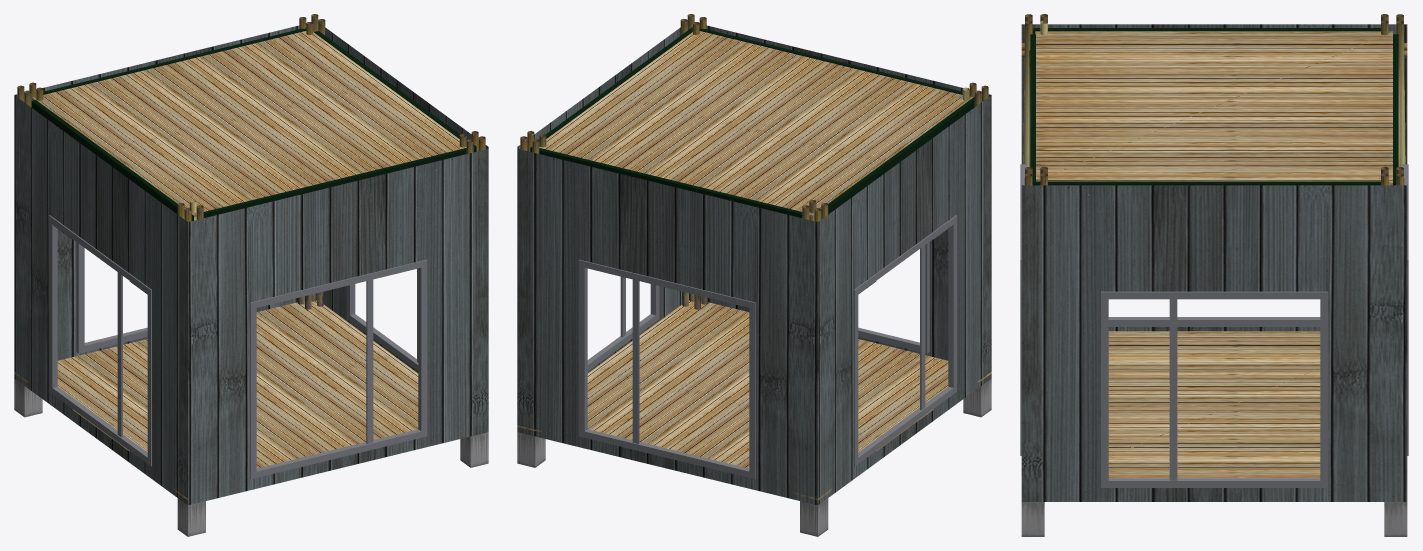
The model's file is module-room.glb.
3 views of the same model, side by side, from view 1: azimuth 30°, elevation 25°; view 2: azimuth 150°, elevation 25°; view 3: azimuth 270°, elevation 25° (orthographic). The views are drawn at different scales.
Parts seen in each view (by area): view 1: for bblneder3; view 2: for bblneder3; view 3: for bblneder3.
Boxes of the visible parts, x1=… form: for bblneder3: x1=14, y1=14, x2=488, y2=536; for bblneder3: x1=517, y1=14, x2=991, y2=536; for bblneder3: x1=1020, y1=14, x2=1408, y2=536.
Bounding box in the file's own units: 5.03 × 5.15 × 5.03.
Materials: 6 (4 with a texture image).
